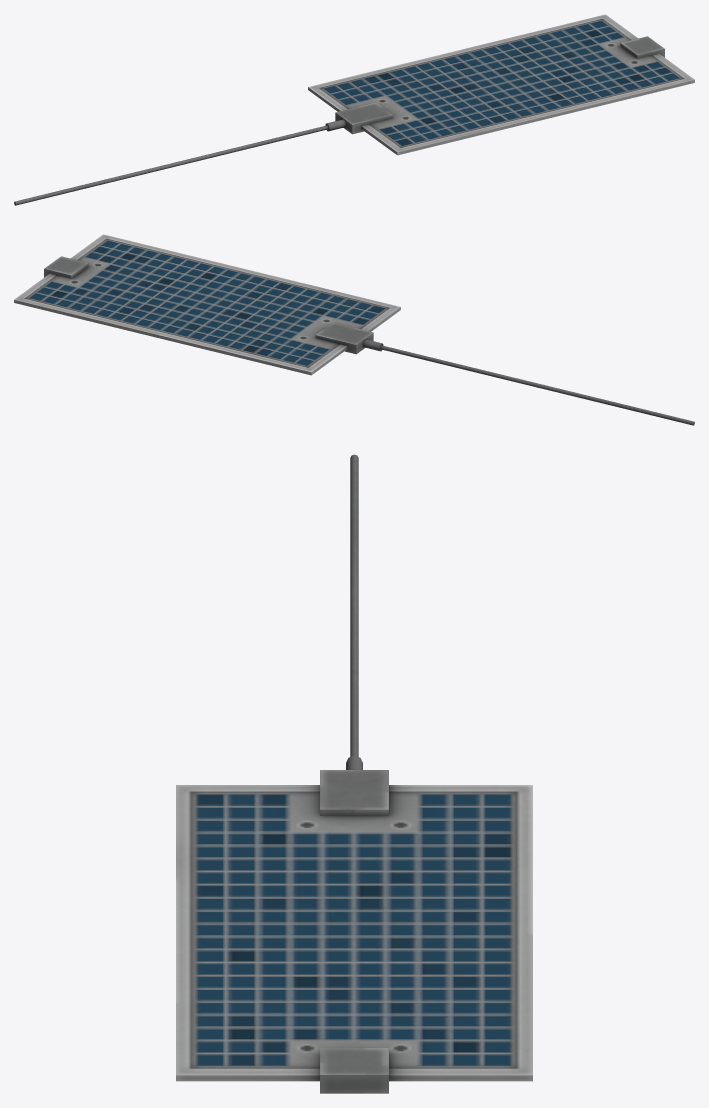
File: Tantares_SolarBasic_1_4.obj
3 views of the same model, one above another, from view 1: azimuth 30°, elevation 25°; view 2: azimuth 150°, elevation 25°; view 3: azimuth 270°, elevation 25° (orthographic). The views are drawn at different scales.
Parts seen in each view (by area): view 1: Tantares_SolarBasic_1_4; view 2: Tantares_SolarBasic_1_4; view 3: Tantares_SolarBasic_1_4.
Boxes of the visible parts, x1=… form: Tantares_SolarBasic_1_4: x1=14, y1=14, x2=694, y2=205; Tantares_SolarBasic_1_4: x1=14, y1=234, x2=694, y2=425; Tantares_SolarBasic_1_4: x1=176, y1=454, x2=532, y2=1093.
Bounding box in the file's own units: 2.15 × 0.03 × 0.52.
